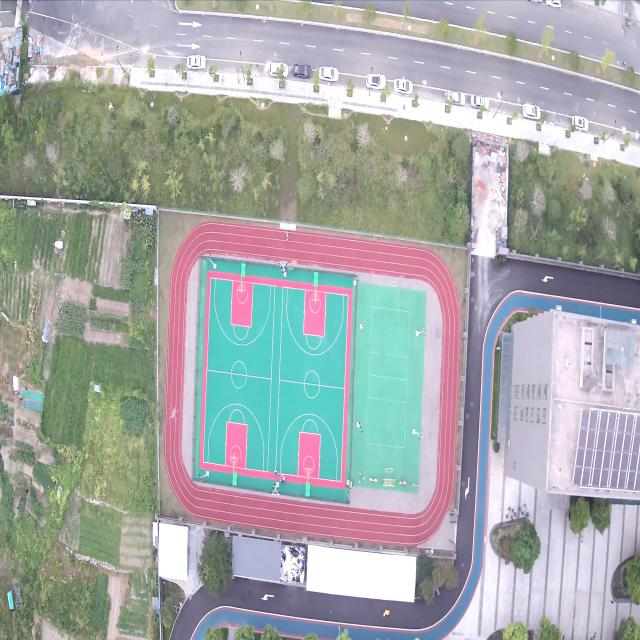drone: (168, 405, 180, 421)
